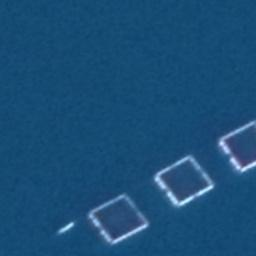square_solid: (149, 151, 219, 212), (87, 188, 150, 245), (215, 119, 256, 177)
